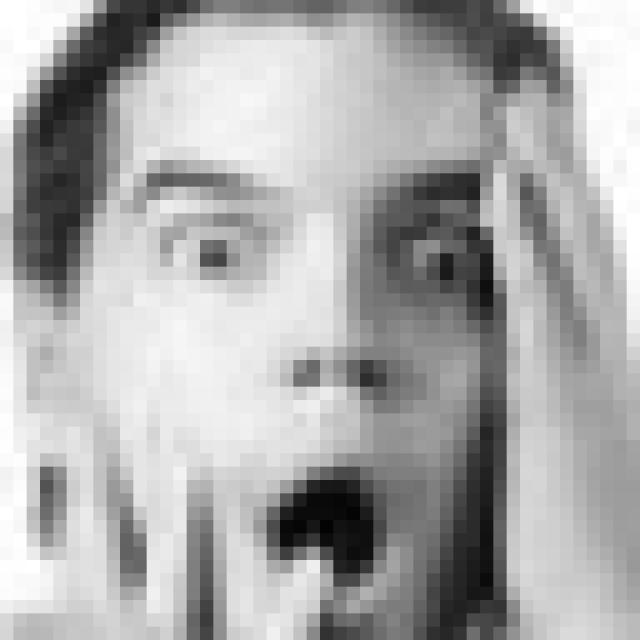surprise: (120, 157, 502, 618)
